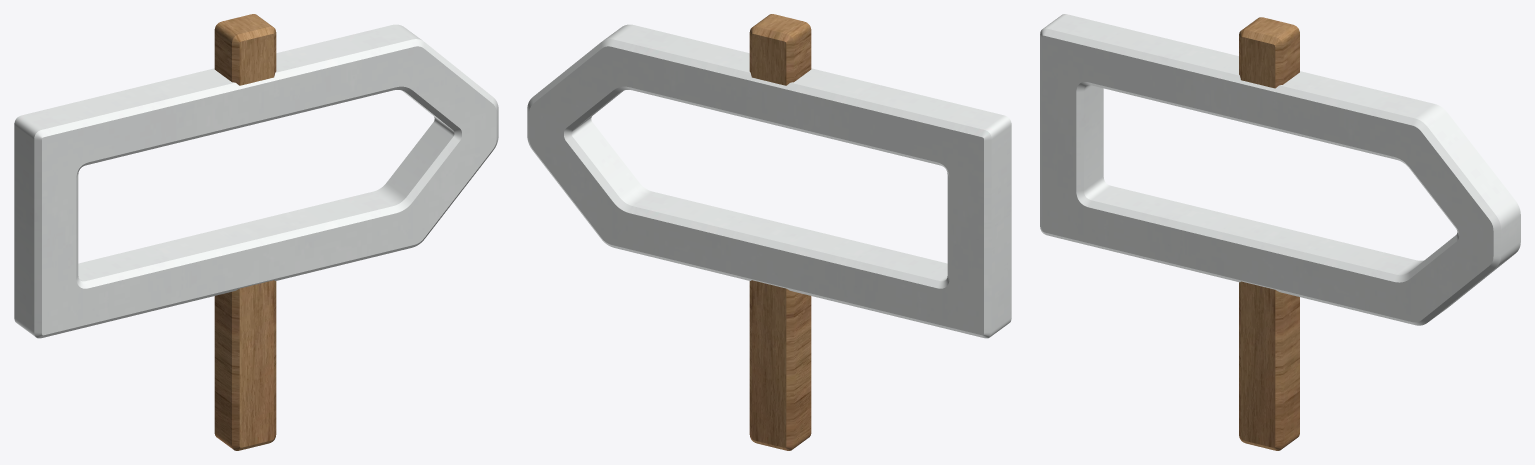
Rendered from getting-started.glb.
3 views of the same model, side by side, from view 1: azimuth 30°, elevation 25°; view 2: azimuth 150°, elevation 25°; view 3: azimuth 330°, elevation 25° (orthographic).
Parts seen in each view (by area): view 1: Icon; view 2: Icon; view 3: Icon.
Part boxes in pixels (<box>): Icon: <box>14,14,498,450</box>; Icon: <box>527,14,1011,450</box>; Icon: <box>1040,14,1520,450</box>.
Size of the model in its own units: 0.2 by 0.1714 by 0.019.
Materials: 3 (3 with a texture image).
